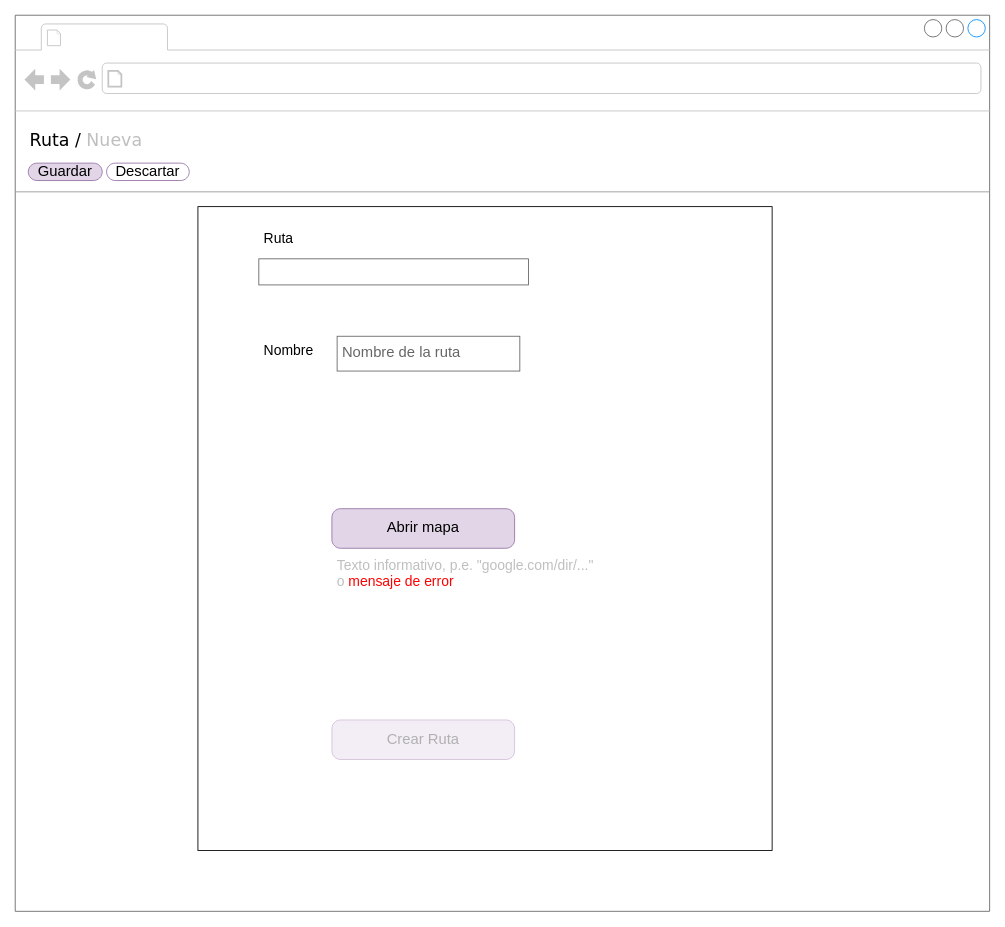
This 1005x927 diagram has some shape labels left out. The centre of each missing label's shape, as x and y in pixels:
"Identificador de la ruta" goes at pixel 393 271.
"localhost:8069/ruta/nueva" goes at pixel 236 78.
"Odoo" goes at pixel 115 36.
